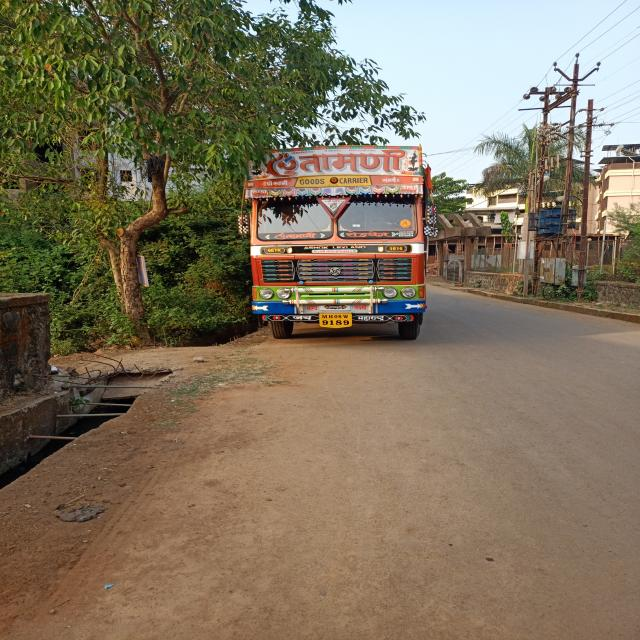truck: (234, 140, 454, 353)
